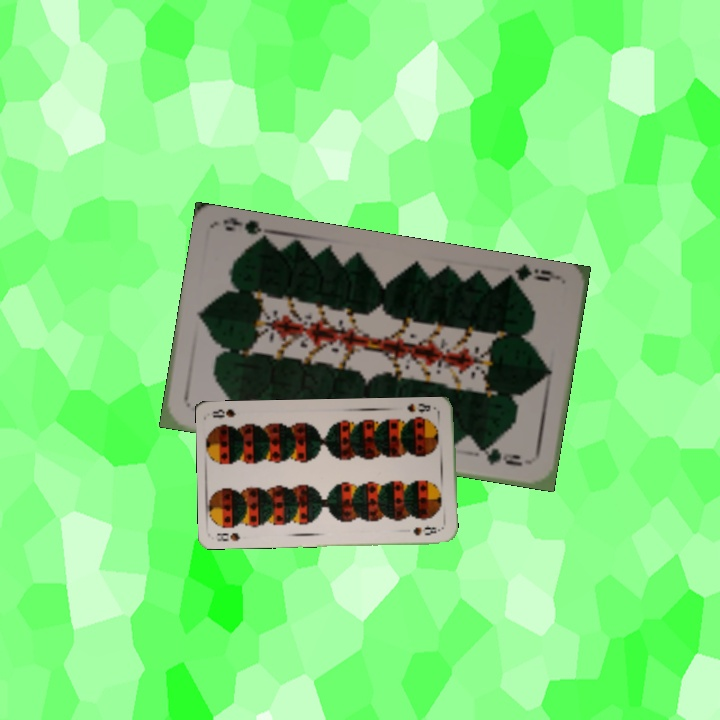G9: (502, 262, 563, 289)
S8: (403, 400, 433, 416), (213, 528, 242, 544)
